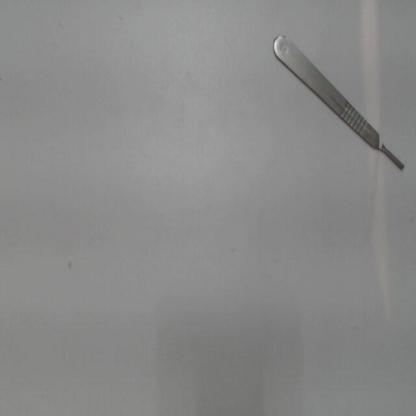No.3 BP Handle: (268, 17, 414, 187)
